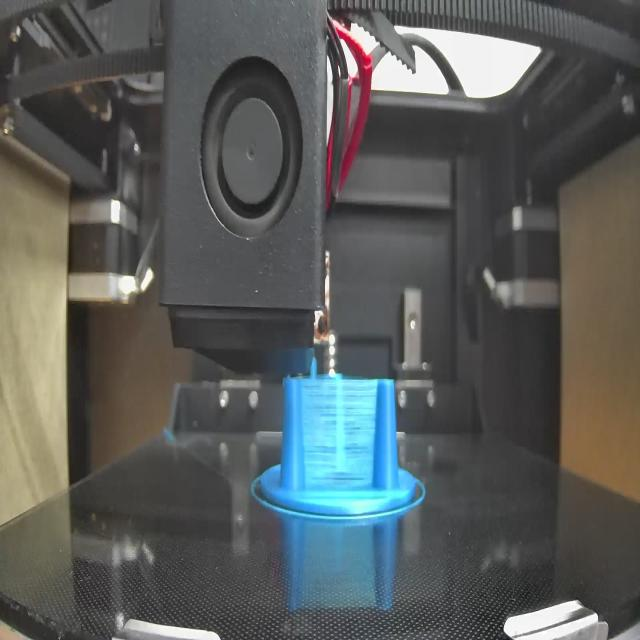stringing: (301, 381, 378, 490)
